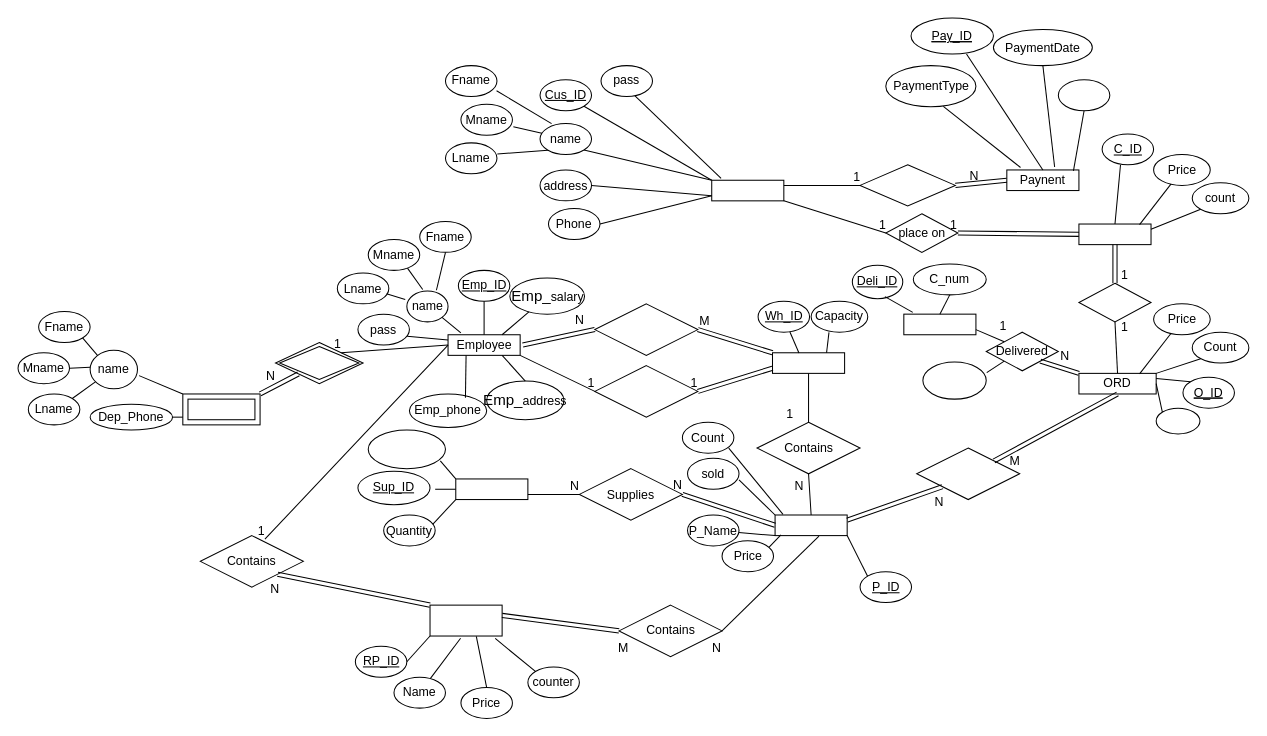
The diagram is 1267 pixels wide and 736 high, and some of its shapes have lost their labels. Each missing label, with the centre of its shape:
"Cart" goes at (1114,234).
"Customer" goes at (747,190).
"Deli_Date" goes at (954,380).
"Delivery" goes at (939,324).
"Dependent" goes at (221,409).
"Display" goes at (968,473).
"Has" goes at (318,362).
"Makes" goes at (907,185).
"Manages" goes at (646,391).
"O_Date" goes at (1177,420).
"Product" goes at (810,525).
"Receipt" goes at (1083,95).
"Requested product" goes at (465,620).
"Show_on" goes at (1114,302).
"Sup_name" goes at (406,449).
"Supplier" goes at (491,489).
"Warehouse" goes at (808,362).
"works_on" goes at (646,329).
